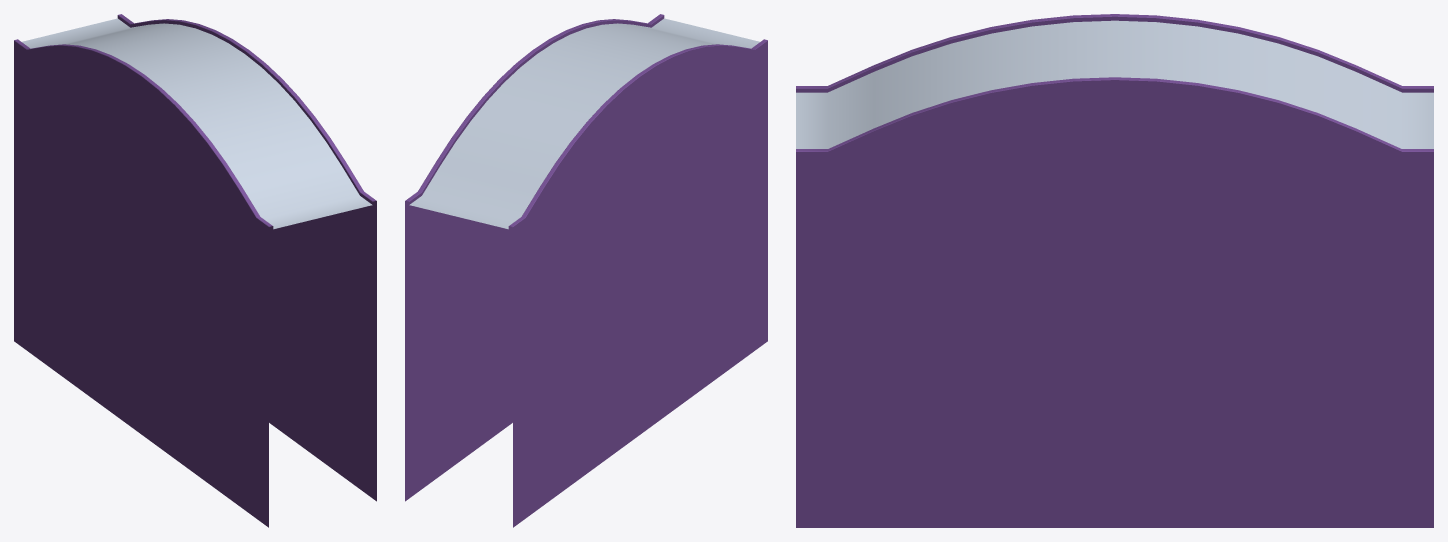
The model's file is SM_Platform_L_Curve.fbx.
The picture shows the model from 3 angles, left to right: view 1: azimuth 30°, elevation 25°; view 2: azimuth 150°, elevation 25°; view 3: azimuth 270°, elevation 25°; orthographic projection. The views are drawn at different scales.
Visible parts, largest first — view 1: SM_Platform_L_Curve; view 2: SM_Platform_L_Curve; view 3: SM_Platform_L_Curve.
Part boxes in pixels (box(x1,y1,x2,y2)): SM_Platform_L_Curve: box(14, 14, 376, 527); SM_Platform_L_Curve: box(405, 14, 767, 527); SM_Platform_L_Curve: box(796, 14, 1433, 527).
Bounding box in the file's own units: 650 × 2065 × 2663.
